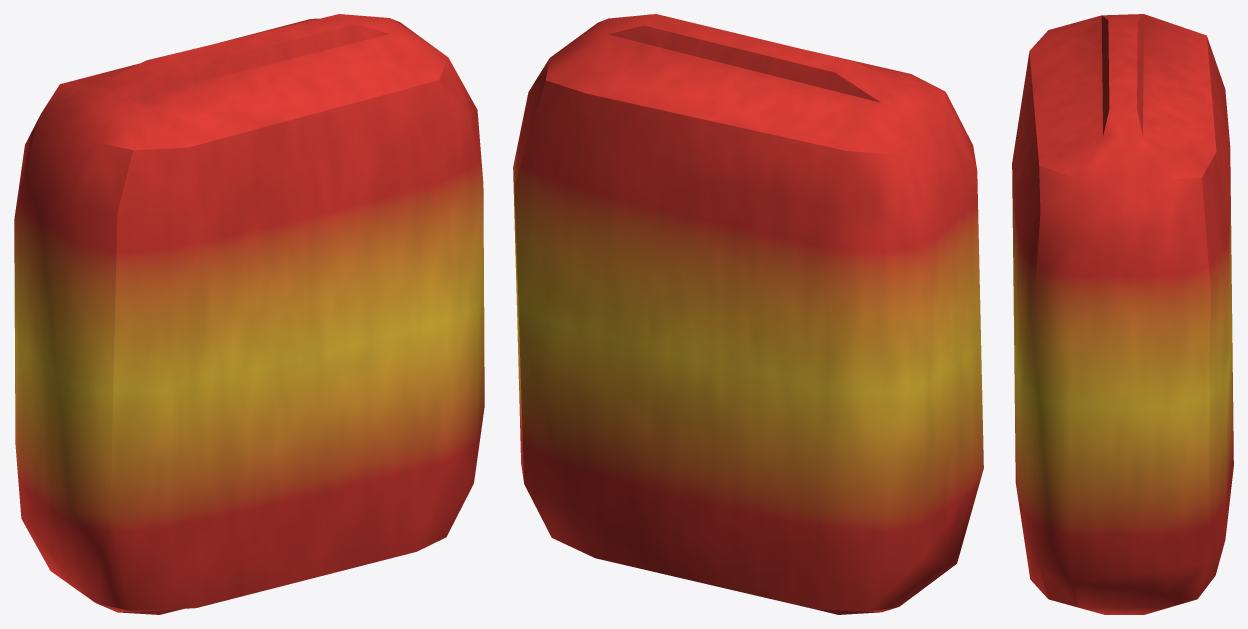
File: Item_GiantChips.fbx
3 renders of one model, left to right at view 1: azimuth 30°, elevation 25°; view 2: azimuth 150°, elevation 25°; view 3: azimuth 270°, elevation 25°, orthographic. The views are drawn at different scales.
Visible parts, largest first — view 1: Item_GiantChips; view 2: Item_GiantChips; view 3: Item_GiantChips.
Boxes of the visible parts, <box> form: Item_GiantChips: <box>14,14,484,614</box>; Item_GiantChips: <box>513,14,983,614</box>; Item_GiantChips: <box>1012,14,1233,614</box>.
Size of the model in its own units: 0.3935 by 0.5 by 0.1974.
1 material, 1 textured.
